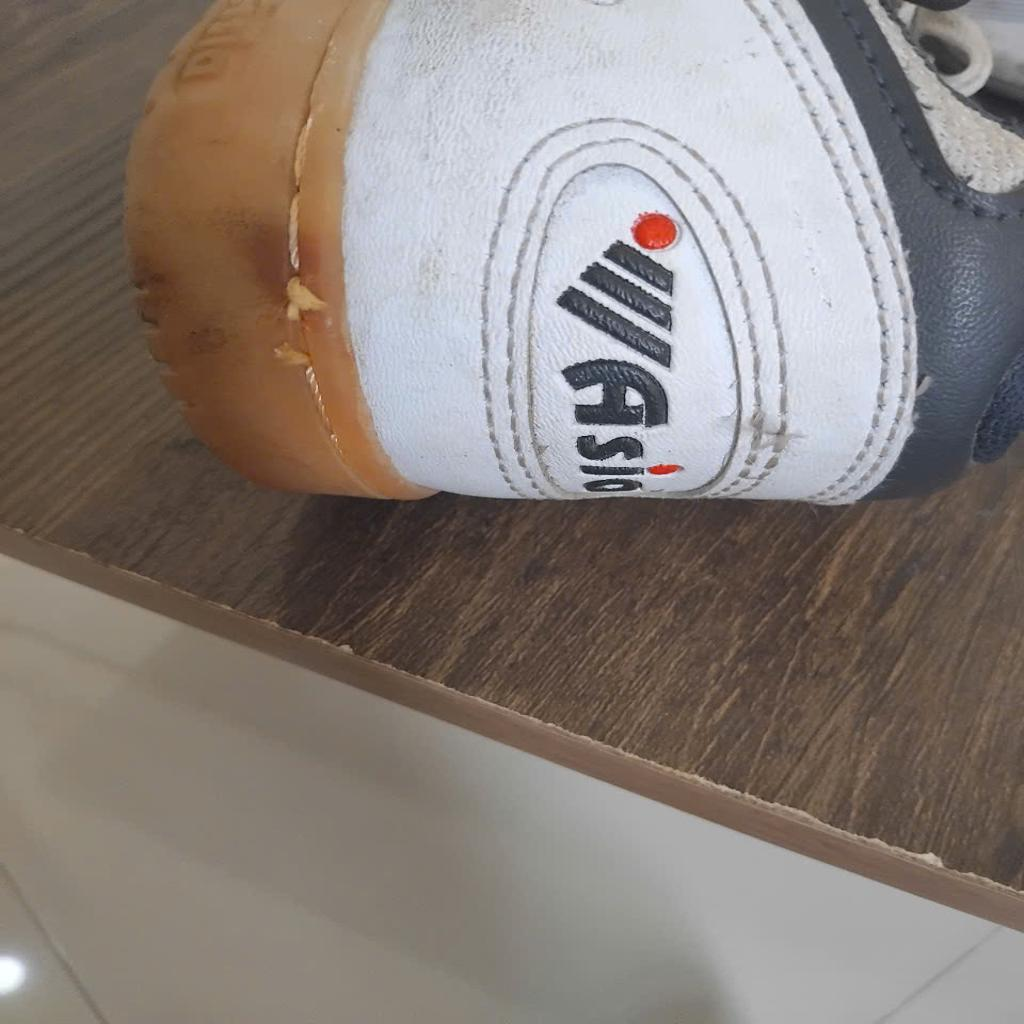broken: (268, 264, 325, 371)
